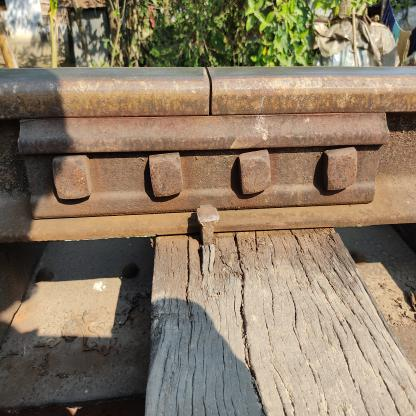Non Defective 2: (184, 62, 242, 140)
Non Defective 3: (13, 108, 390, 244)
